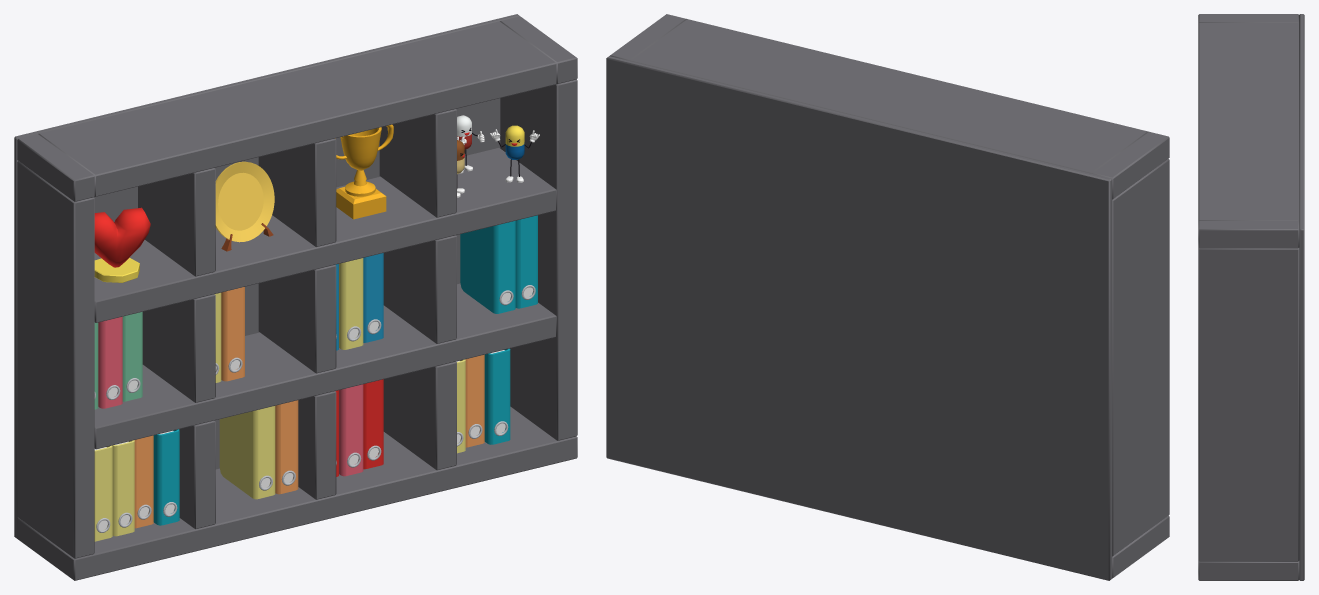
The model's file is Shelving_5.fbx.
The picture shows the model from 3 angles, left to right: view 1: azimuth 30°, elevation 25°; view 2: azimuth 150°, elevation 25°; view 3: azimuth 270°, elevation 25°; orthographic projection. The views are drawn at different scales.
Visible parts, largest first — view 1: Shelving_5; view 2: Shelving_5; view 3: Shelving_5.
Part boxes in pixels (x1=…): Shelving_5: x1=14, y1=14, x2=577, y2=580; Shelving_5: x1=606, y1=14, x2=1169, y2=580; Shelving_5: x1=1198, y1=14, x2=1304, y2=580.
Size of the model in its own units: 2.02 by 1.54 by 0.4212.
